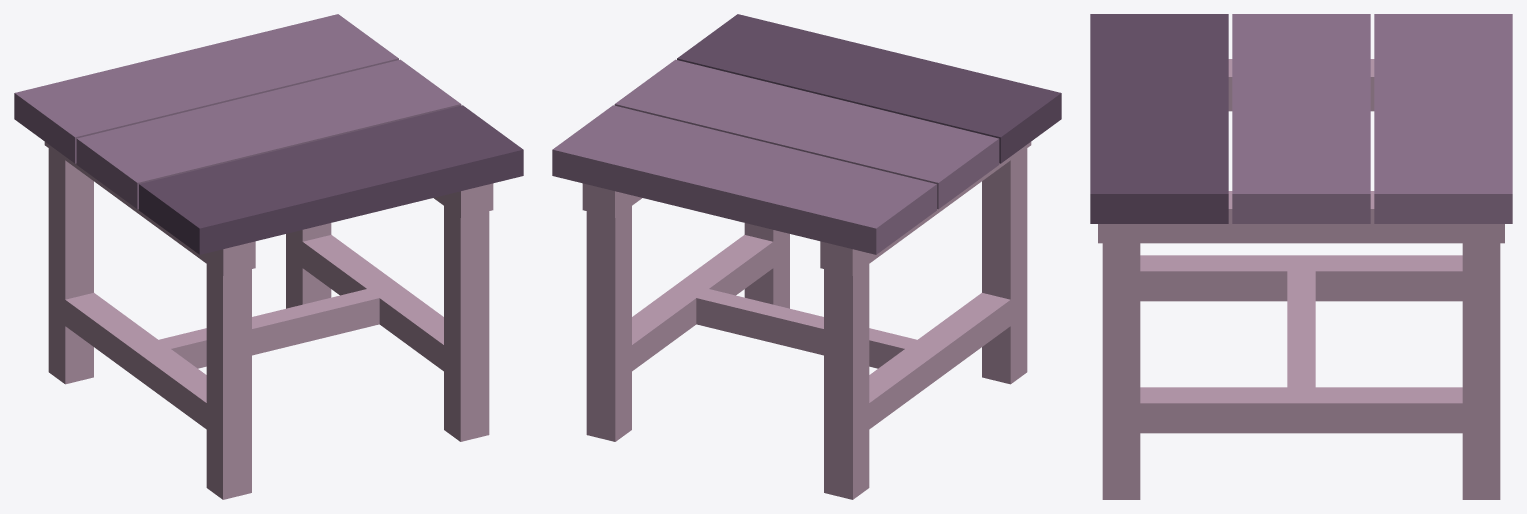
Rendered from TW_TABLE_SQUARE_A_LOD0.glb.
3 renders of one model, left to right at view 1: azimuth 30°, elevation 25°; view 2: azimuth 150°, elevation 25°; view 3: azimuth 270°, elevation 25°, orthographic. The views are drawn at different scales.
Visible parts, largest first — view 1: TW_TABLE_SQUARE_A_LOD0; view 2: TW_TABLE_SQUARE_A_LOD0; view 3: TW_TABLE_SQUARE_A_LOD0.
Part boxes in pixels (x1,y1,x2,y2): TW_TABLE_SQUARE_A_LOD0: [14, 14, 523, 499]; TW_TABLE_SQUARE_A_LOD0: [552, 14, 1061, 499]; TW_TABLE_SQUARE_A_LOD0: [1090, 14, 1512, 499].
Bounding box in the file's own units: 0.9 × 0.75 × 0.892.
Materials: 1 (1 with a texture image).
